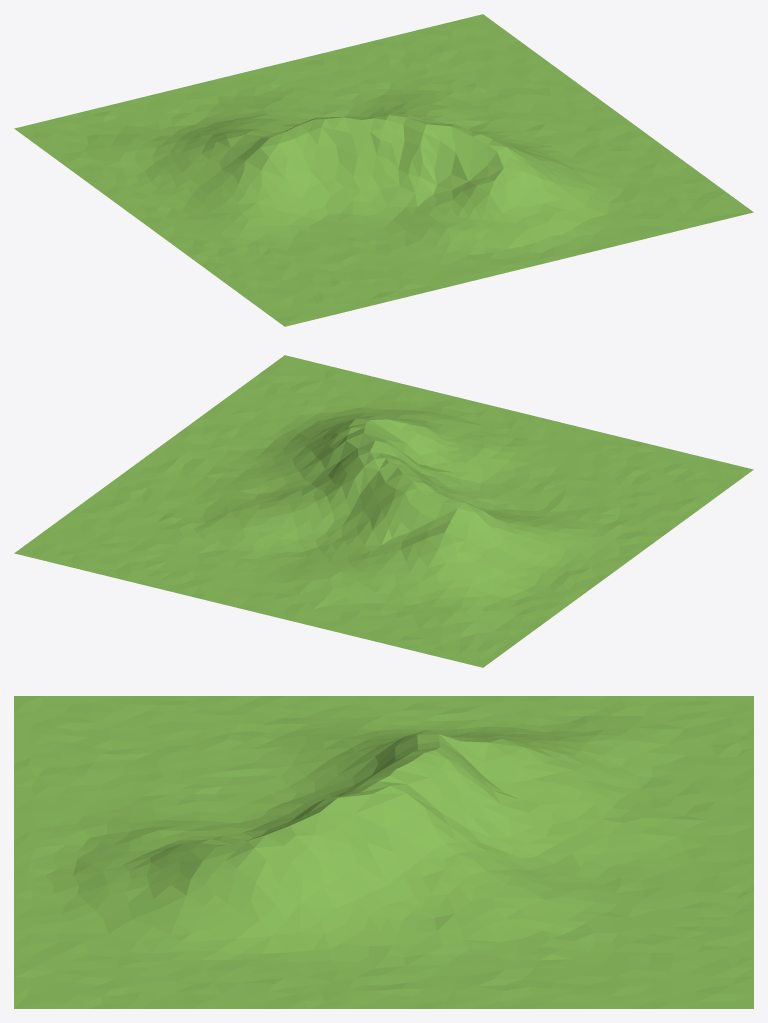
The model's file is MT_Terrain_L_a_15.fbx.
The picture shows the model from 3 angles, top to bottom: view 1: azimuth 30°, elevation 25°; view 2: azimuth 150°, elevation 25°; view 3: azimuth 270°, elevation 25°; orthographic projection. The views are drawn at different scales.
Visible parts, largest first — view 1: MT_Terrain_L_a_15; view 2: MT_Terrain_L_a_15; view 3: MT_Terrain_L_a_15.
Boxes of the visible parts, x1,y1,x2,y2 form: MT_Terrain_L_a_15: (14, 14, 753, 326); MT_Terrain_L_a_15: (14, 355, 753, 667); MT_Terrain_L_a_15: (14, 696, 753, 1008).
Bounding box in the file's own units: 10000 × 1087 × 10000.
